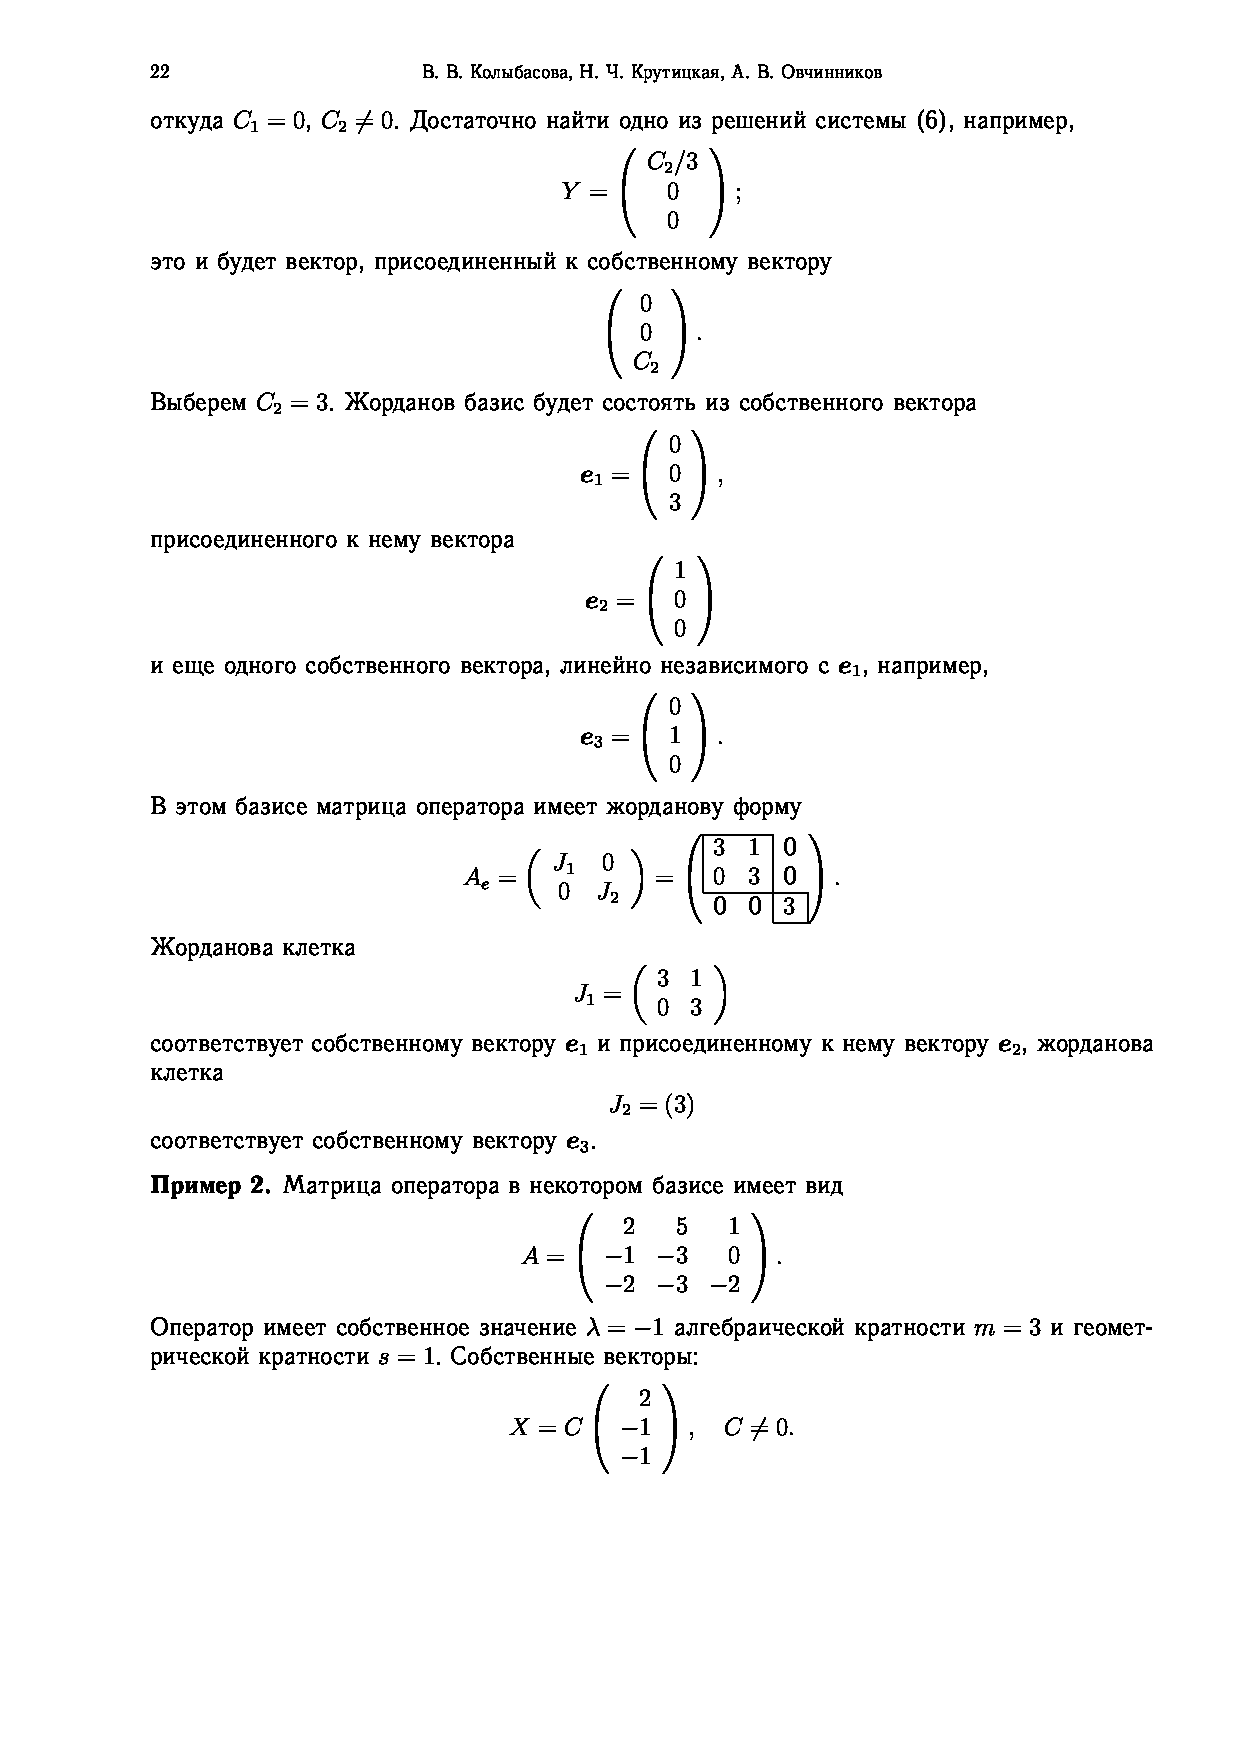pMatrix: (577, 1209, 768, 1308), (686, 831, 827, 927), (619, 146, 726, 246), (526, 844, 644, 917), (593, 1380, 682, 1476), (608, 286, 690, 386), (640, 691, 709, 784), (641, 429, 706, 527), (633, 966, 730, 1029), (650, 553, 711, 651)
